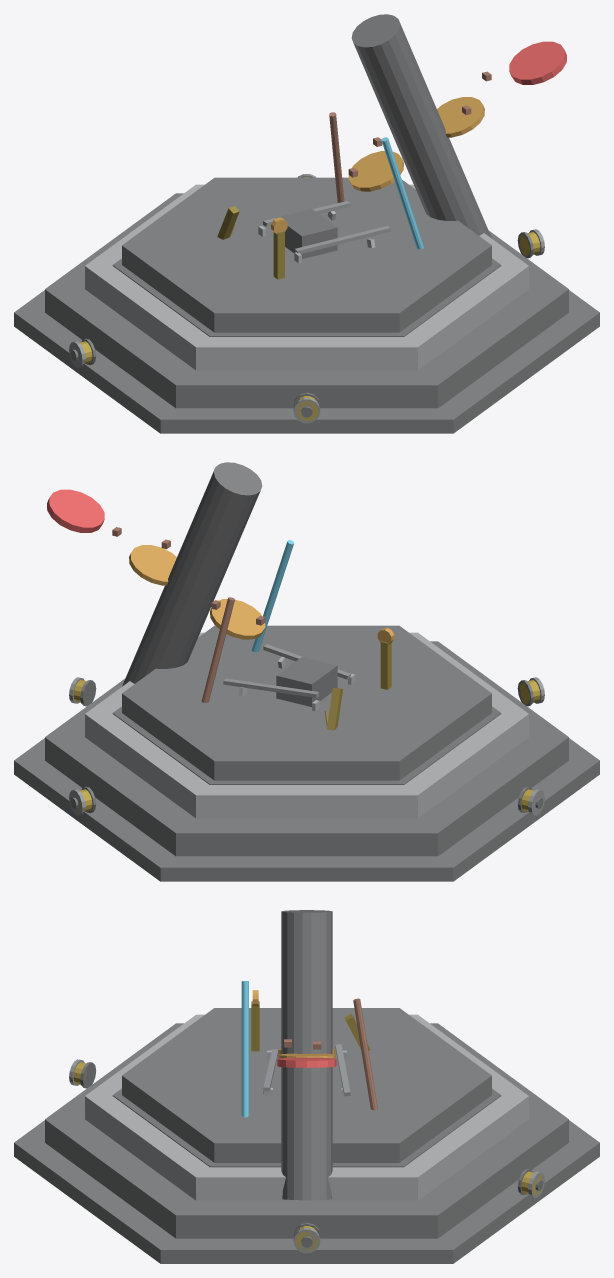
File: howitzer_s2_50.glb
3 renders of one model, top to bottom at view 1: azimuth 30°, elevation 25°; view 2: azimuth 150°, elevation 25°; view 3: azimuth 270°, elevation 25°, orthographic.
Parts seen in each view (by area): view 1: H_Barrel; view 2: H_Barrel; view 3: H_Barrel.
Boxes of the visible parts, x1,y1,x2,y2 form: H_Barrel: (14,14,599,433); H_Barrel: (14,462,599,881); H_Barrel: (14,910,599,1263).
Bounding box in the file's own units: 5.5 × 3.08 × 5.7.
